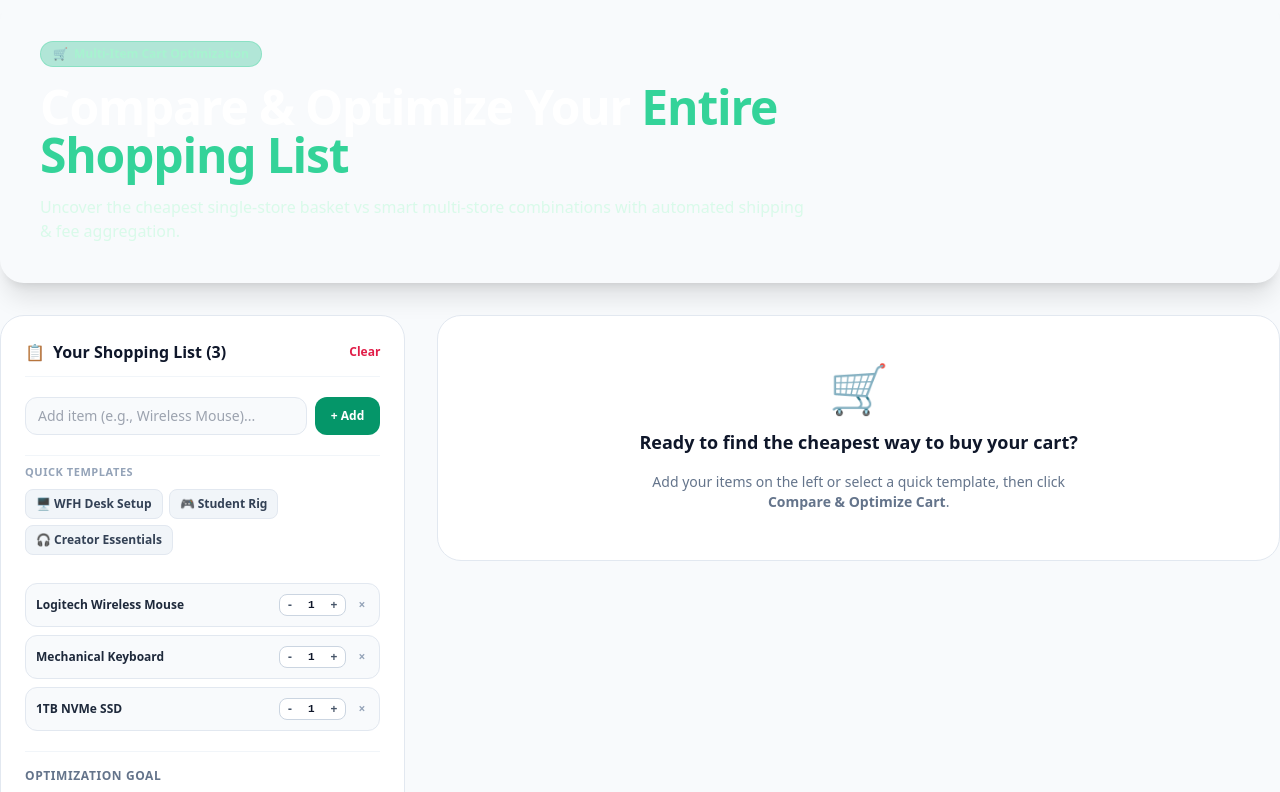
Test: Smart Cart Page Frontend › renders shopping list and adds new items
The width and height of the screenshot is (1280, 792).
Expected: the text "Your Shopping List (3)" is shown, [53,340,226,364]
Expected: the text "Logitech Wireless Mouse" is shown, [36,596,184,612]
In the field with placeholder "Add item (e.g., Wireless Mouse)...": (166, 416) [25,397,307,435], type "Webcam"
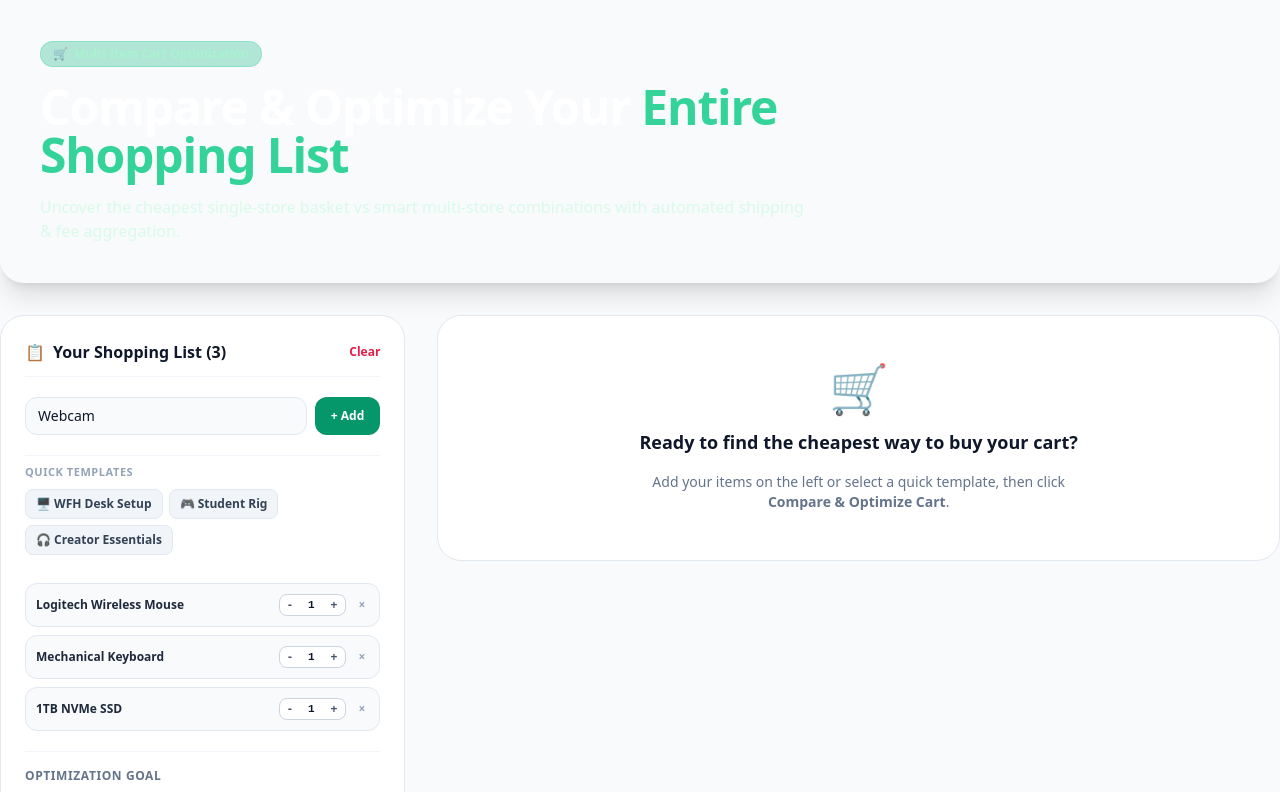
Click the button "+ Add": (348, 416) [315,397,380,435]
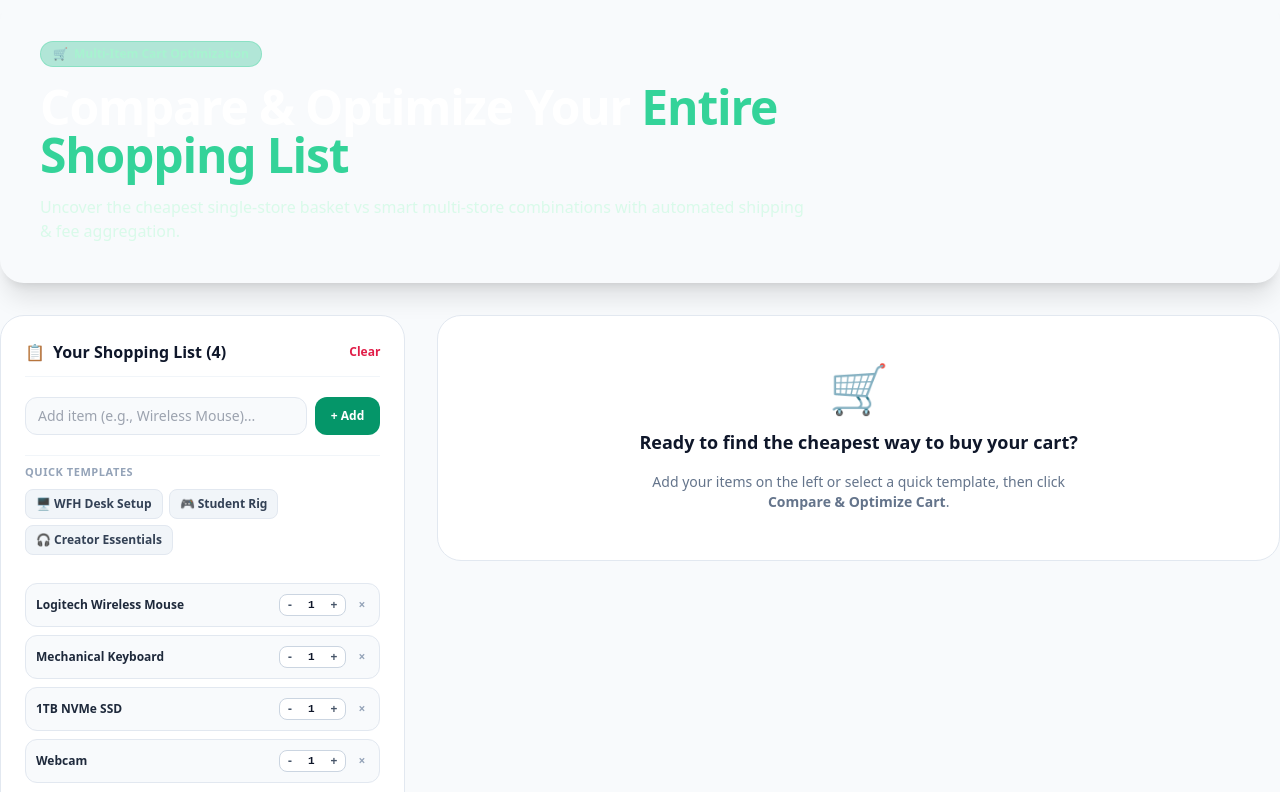
Expected: the text "Webcam" is shown, [36,752,87,768]
